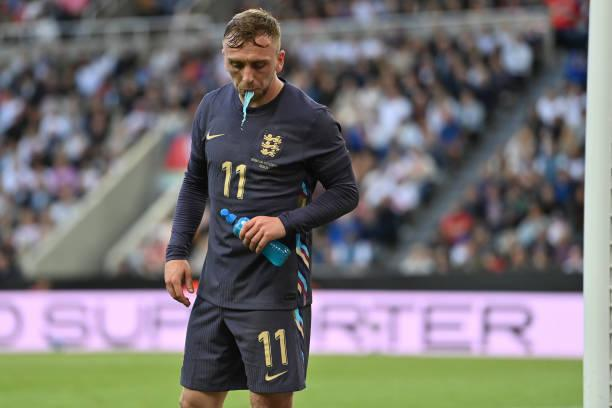Spitting: (198, 6, 298, 118)
